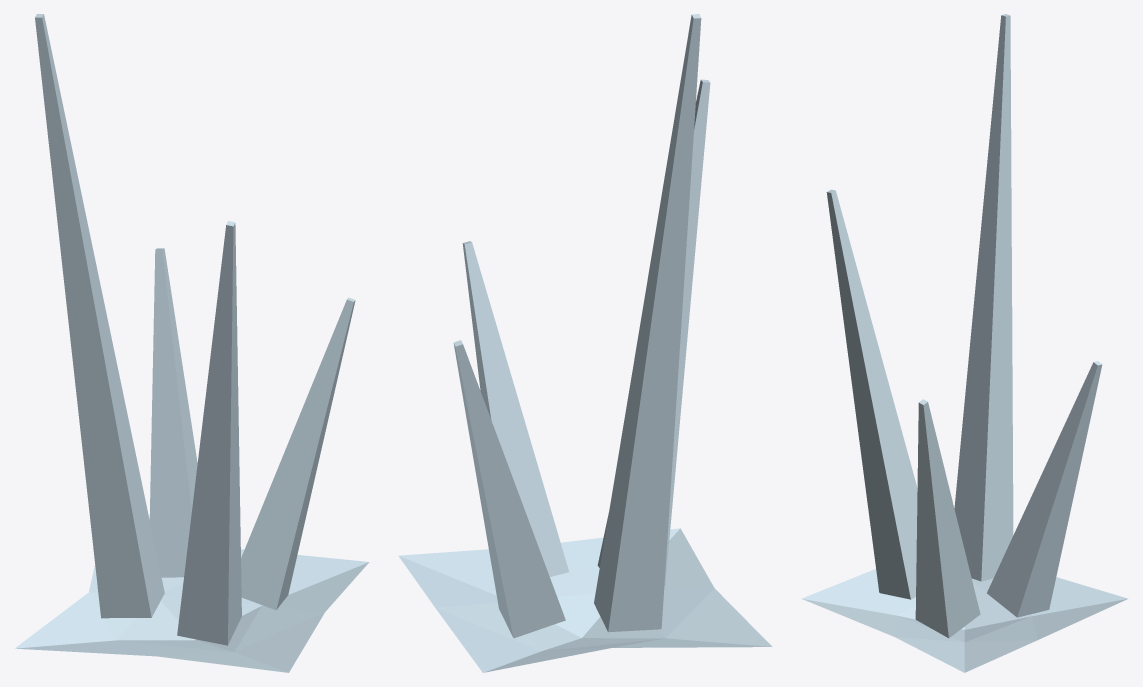
Rendered from ice_shard_v22.glb.
3 renders of one model, left to right at view 1: azimuth 30°, elevation 25°; view 2: azimuth 150°, elevation 25°; view 3: azimuth 270°, elevation 25°, orthographic. The views are drawn at different scales.
Visible parts, largest first — view 1: lod0; view 2: lod0; view 3: lod0.
Boxes of the visible parts, x1,y1,x2,y2 form: lod0: (15,14,369,672); lod0: (398,14,772,672); lod0: (801,14,1128,672).
Size of what is drawn, in the model's own units: 0.7696 by 1.33 by 0.7036.
